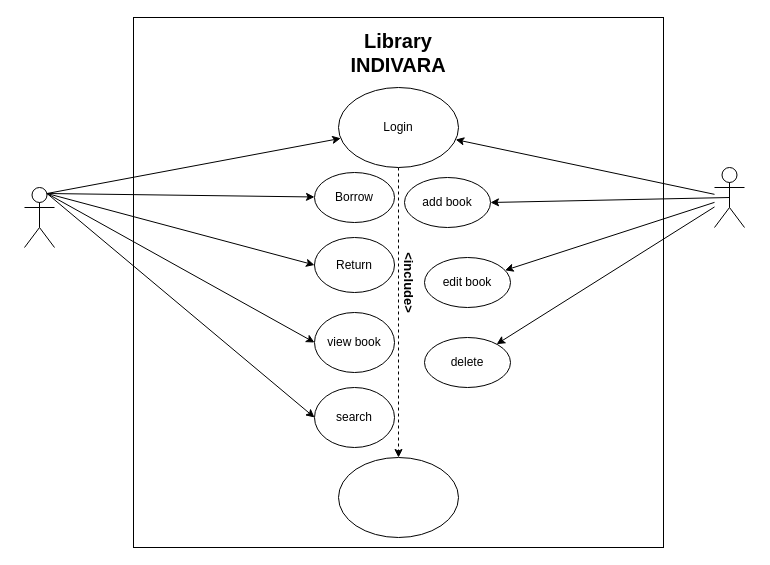
The diagram is 770 pixels wide and 565 high, and some of its shapes have lost their labels. Each missing label, with the centre of its shape:
Anggota: point (39, 217)
Librarian: point (729, 197)
Logout: point (398, 497)
